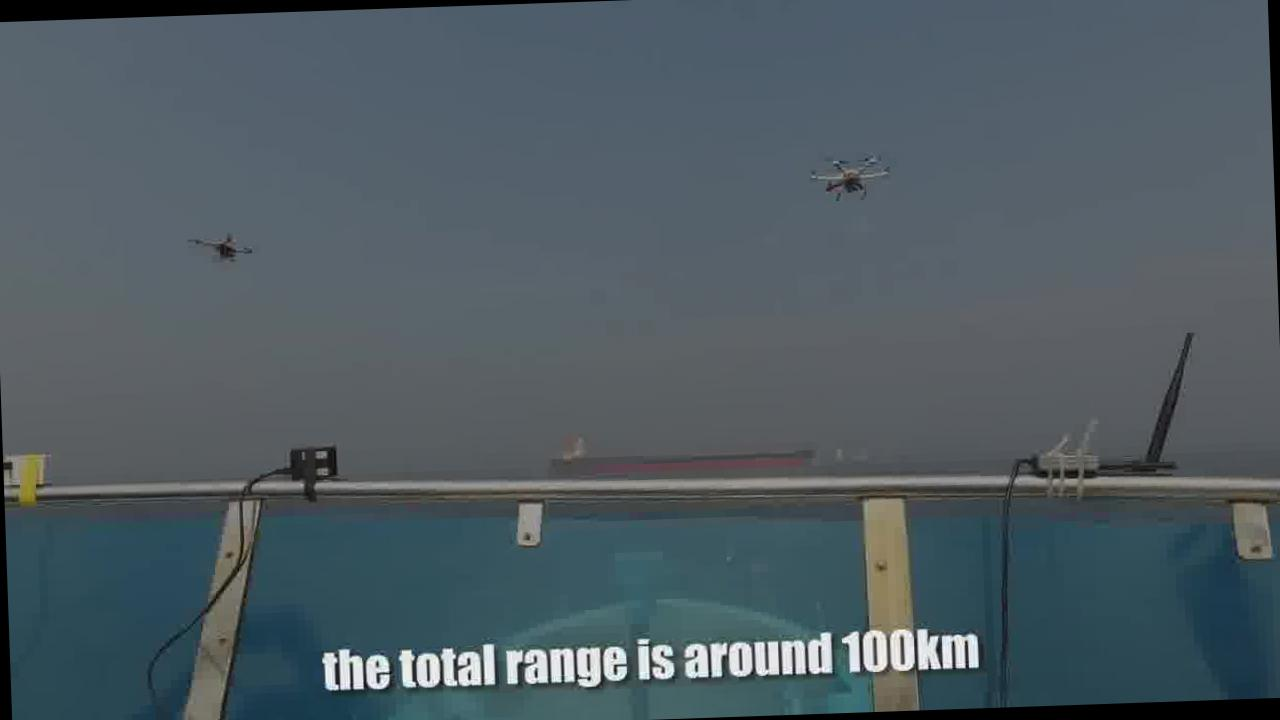drone: (804, 146, 892, 207), (188, 226, 255, 266)
